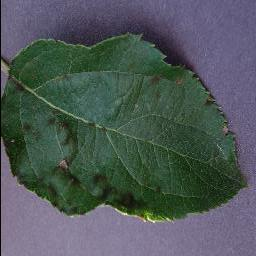apple healthy: (0, 31, 248, 223)
